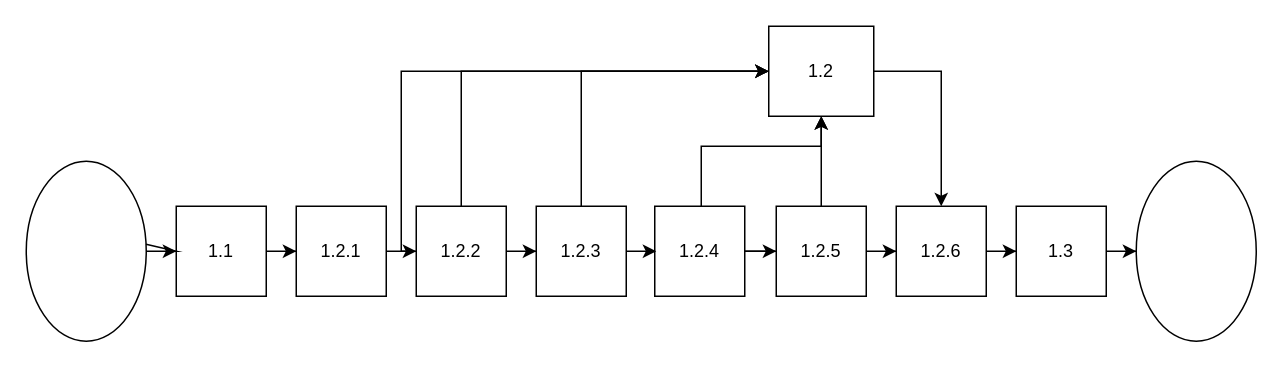
This 1283x368 diagram has some shape labels left out. Here are the shapes that lost their labels. From the top down, the centre of each, then its label:
At (x=85, y=250): "Inicio do projeto".
At (x=1195, y=250): "Termino do projeto".
